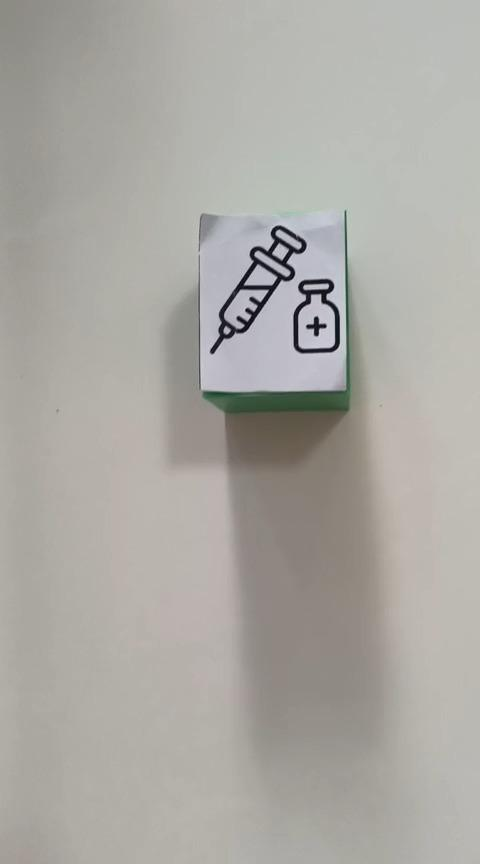antiseptic cream: (196, 207, 350, 412)
